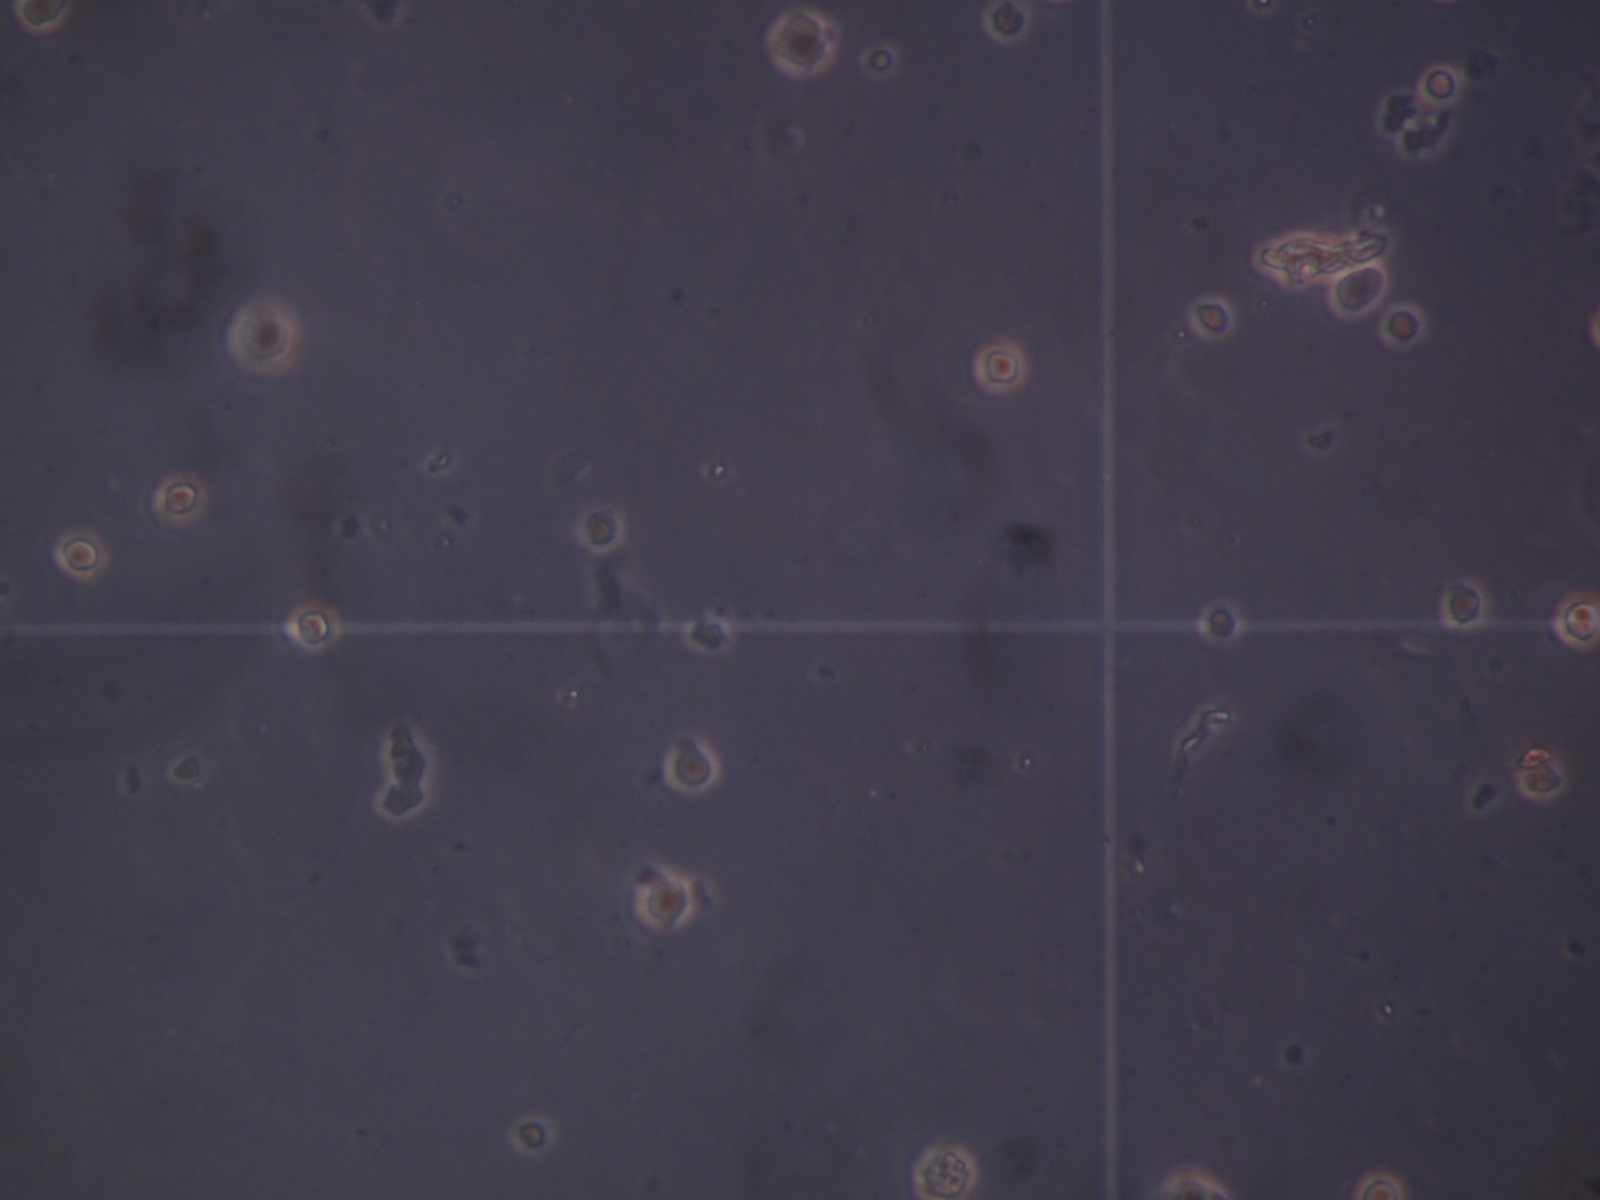hemo: (226, 295, 299, 381), (766, 6, 837, 83), (910, 1142, 981, 1200), (1328, 263, 1390, 320), (50, 524, 110, 581), (637, 875, 695, 932), (663, 740, 721, 795), (973, 337, 1028, 395), (152, 471, 209, 524), (286, 599, 341, 652), (1552, 592, 1600, 652), (1439, 576, 1487, 632), (1517, 756, 1570, 799), (1188, 295, 1236, 342), (577, 505, 622, 555), (981, 1, 1032, 45), (1381, 303, 1427, 349), (683, 614, 734, 655), (1417, 61, 1464, 105), (508, 1112, 554, 1155), (1198, 597, 1242, 642), (14, 1, 74, 32), (1356, 1170, 1406, 1200)
